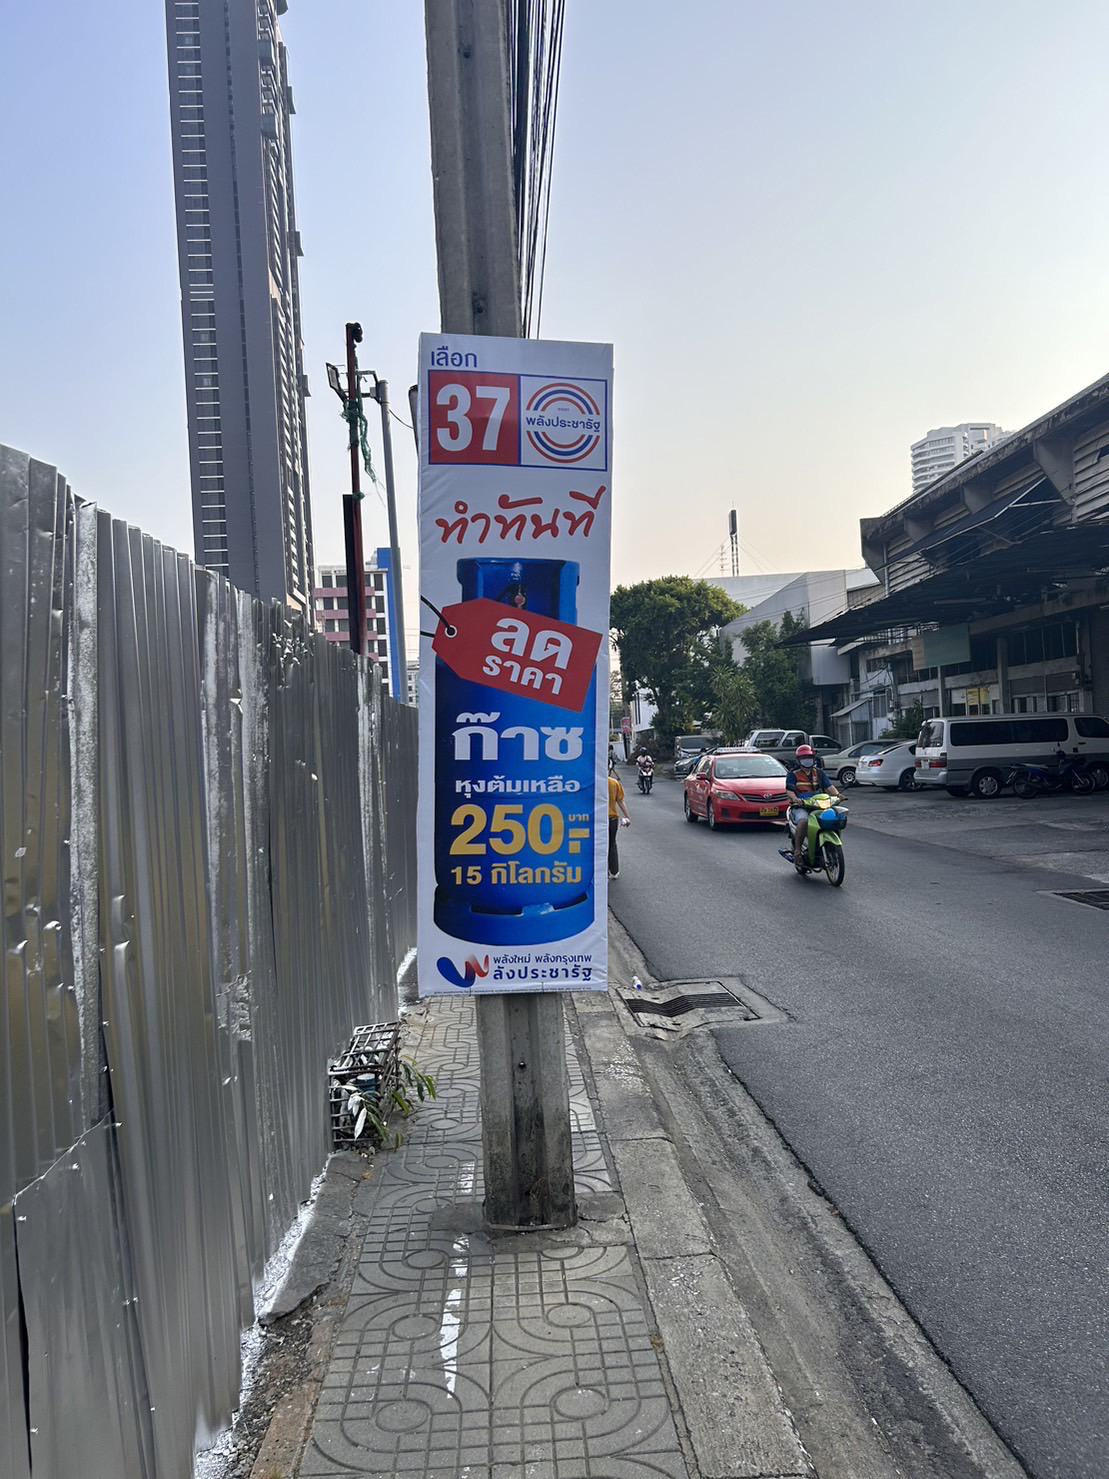Banner: (419, 330, 612, 996)
